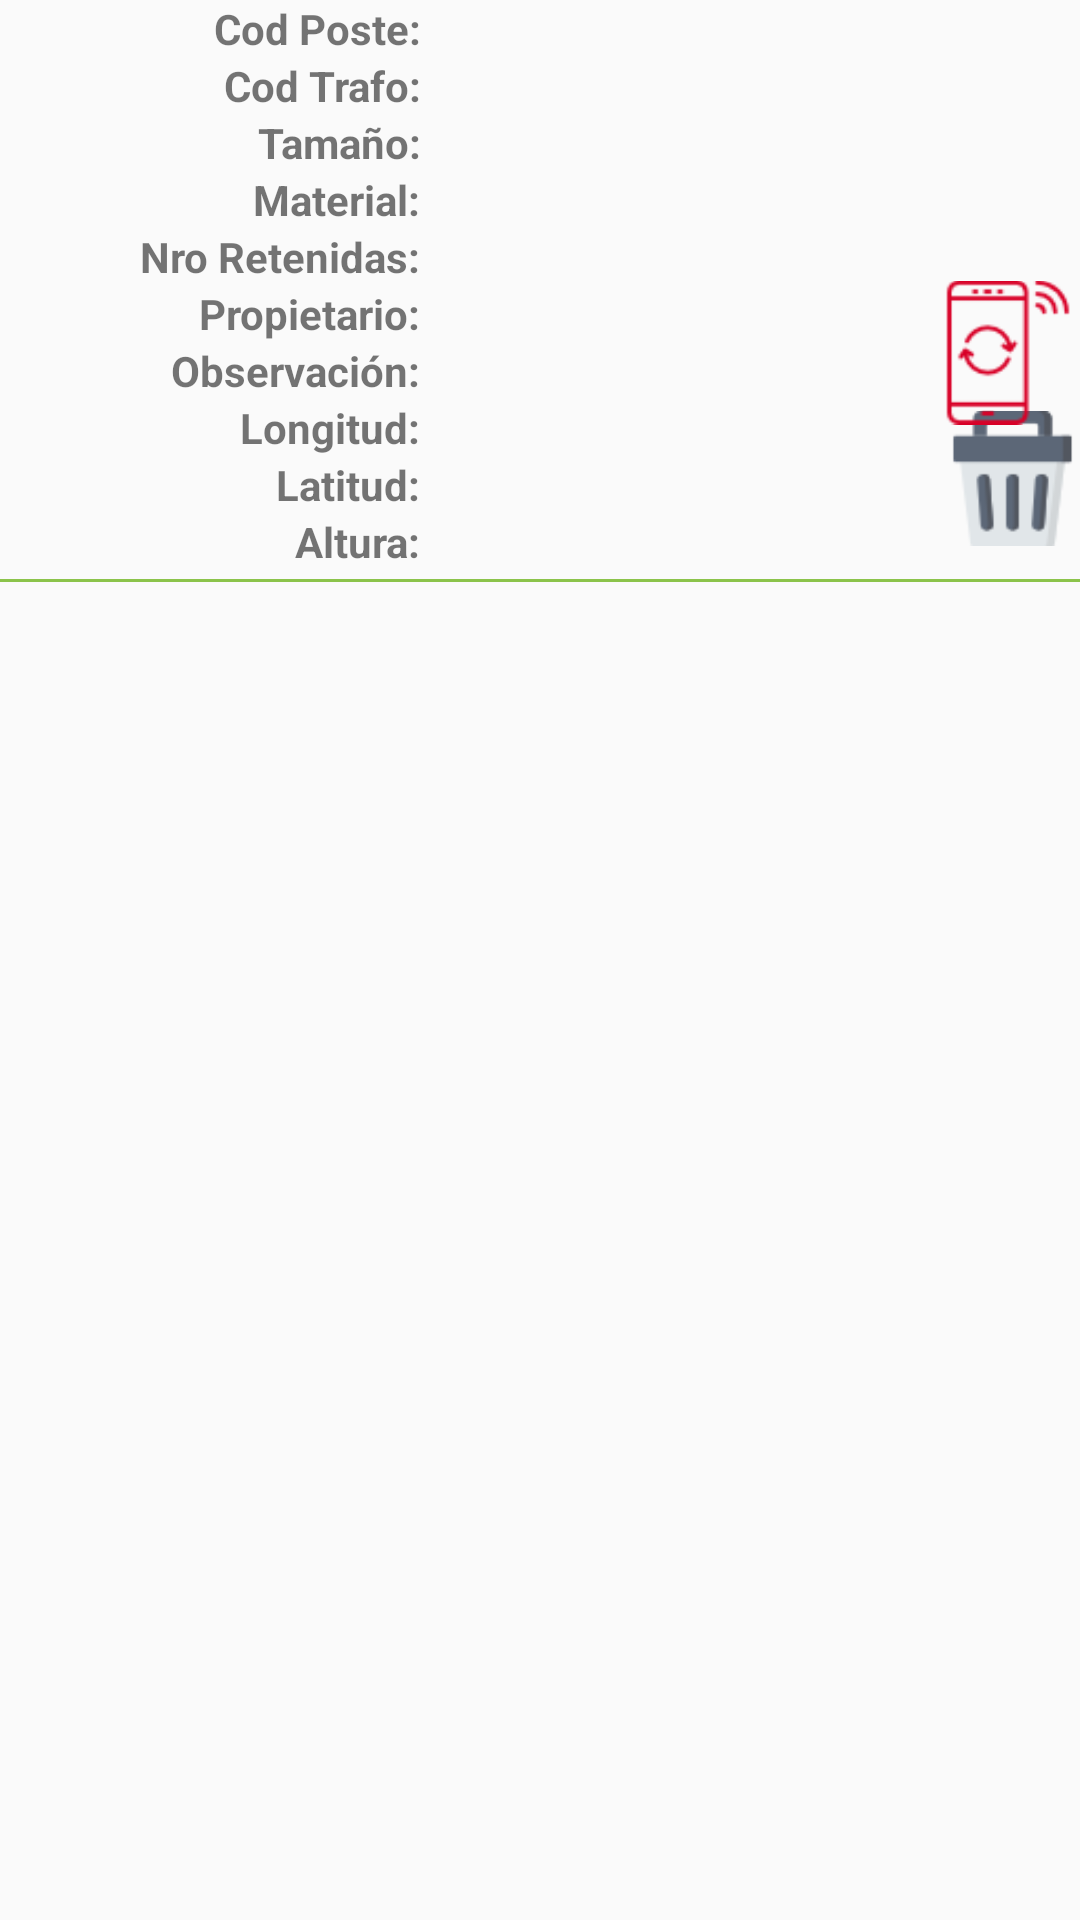

Icon click points for this 1080px x 1920px phone screenshot, format point (x, y):
borrar: point (1009, 472)
sinc movil: point (1009, 365)
